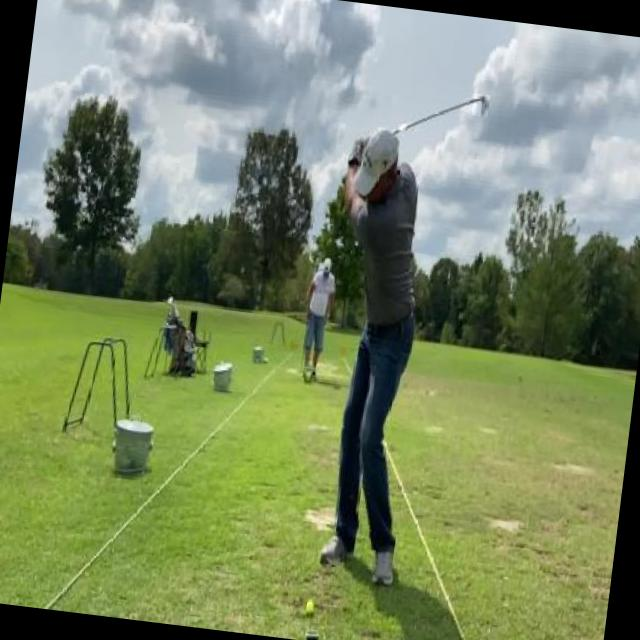club head: (471, 93, 490, 117)
